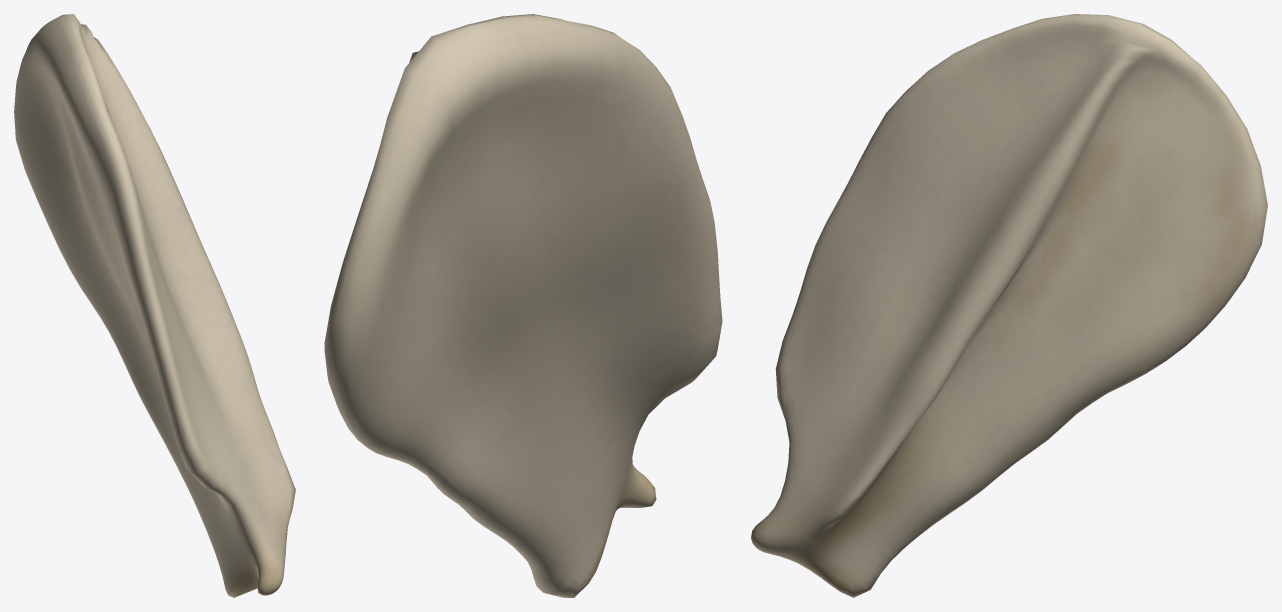
File: L Scapula.fbx
3 renders of one model, left to right at view 1: azimuth 30°, elevation 25°; view 2: azimuth 150°, elevation 25°; view 3: azimuth 270°, elevation 25°, orthographic. The views are drawn at different scales.
Visible parts, largest first — view 1: L Scapula; view 2: L Scapula; view 3: L Scapula.
Boxes of the visible parts, x1,y1,x2,y2 form: L Scapula: [14, 14, 295, 597]; L Scapula: [324, 14, 722, 597]; L Scapula: [751, 14, 1267, 597].
Size of the model in its own units: 7.75 by 25.05 by 21.3.
